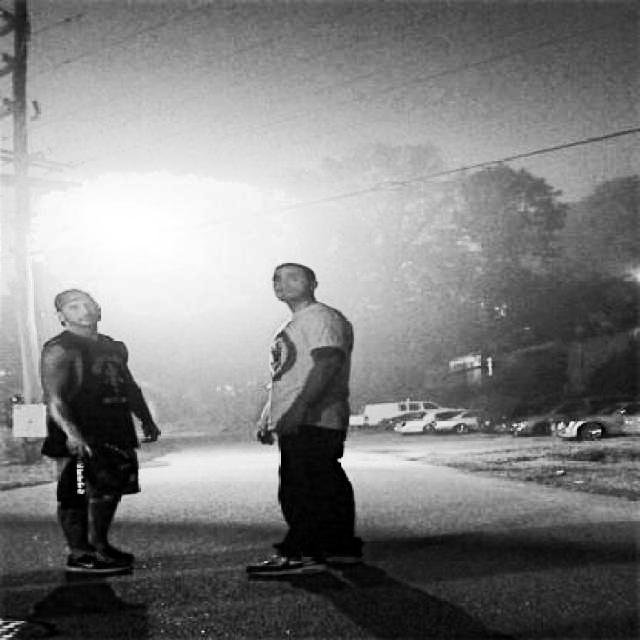Person: (36, 280, 179, 579), (248, 260, 370, 582)
